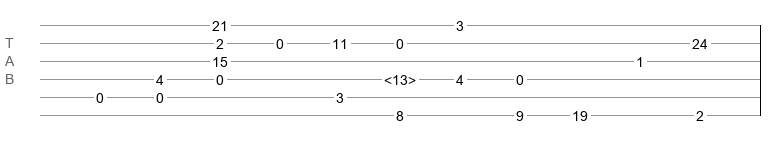0: (96, 90, 104, 100), (156, 90, 164, 100), (216, 72, 224, 82), (276, 36, 284, 46), (396, 36, 404, 46), (516, 72, 524, 82)
1: (636, 54, 644, 64)
11: (332, 36, 348, 46)
15: (212, 54, 228, 64)
19: (572, 108, 588, 118)
2: (216, 36, 224, 46), (696, 108, 704, 118)
21: (212, 18, 228, 28)
24: (692, 36, 708, 46)
3: (336, 90, 344, 100), (456, 18, 464, 28)
4: (156, 72, 164, 82), (456, 72, 464, 82)
8: (396, 108, 404, 118)
9: (516, 108, 524, 118)
harmonic: (384, 72, 416, 82)
